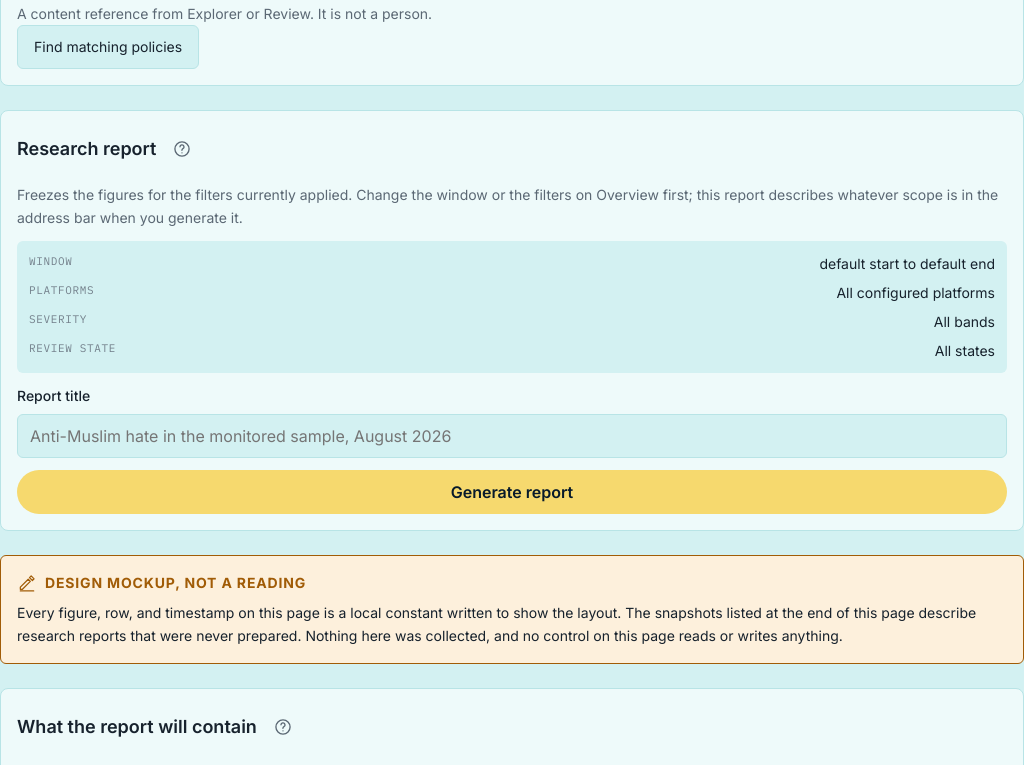
Scenario: ReportsPage › offers generation once a title is typed, and exports only after freezing
(page scrolled)
Expected: the button "Download aggregate CSV" is not shown
In the field labelled "Report title": point(512, 436) [17, 414, 1007, 458], type "August monitored sample"
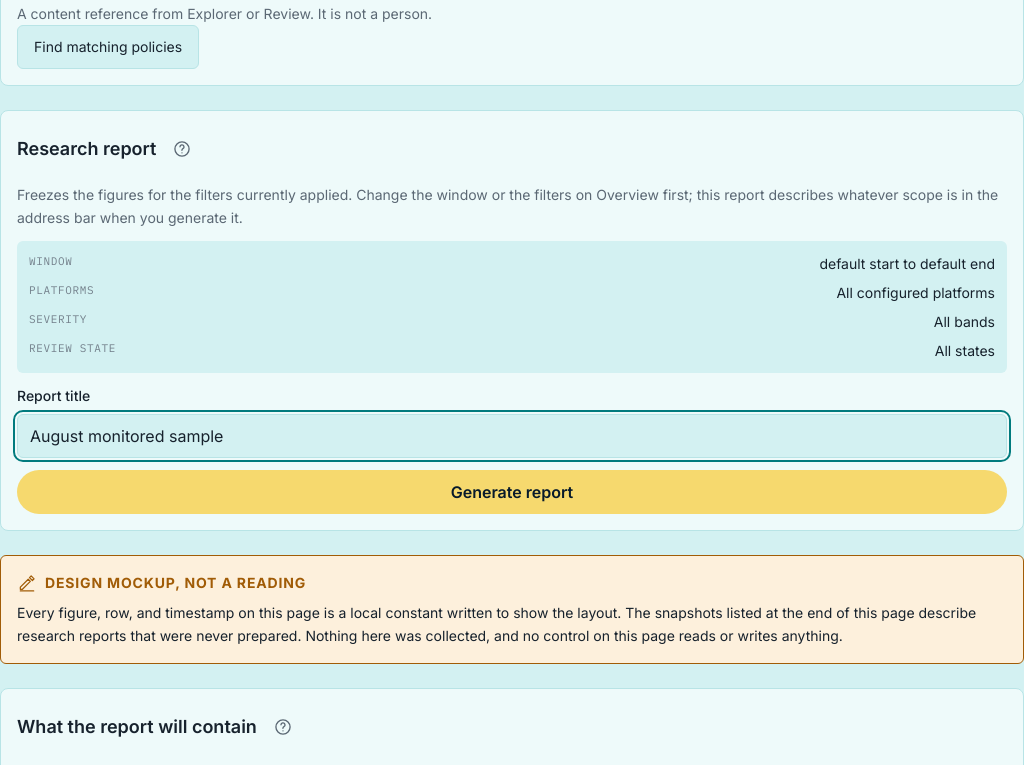
Click the button "Generate report": point(512, 492) [17, 470, 1007, 514]
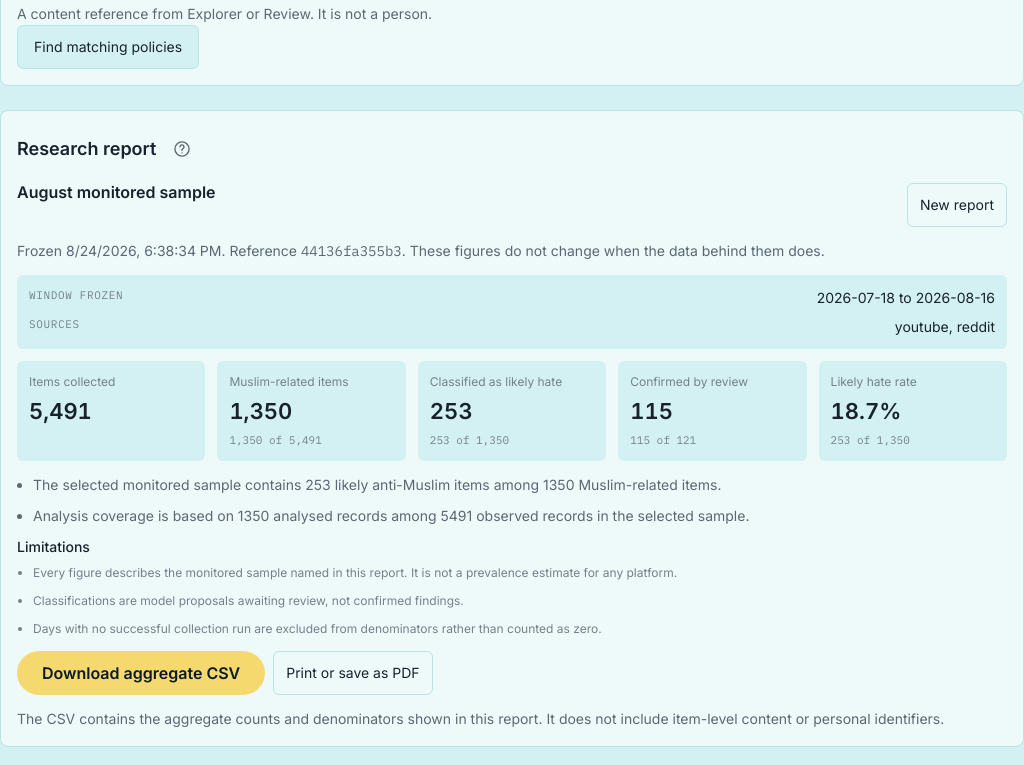
Expected: the button "Download aggregate CSV" is enabled, [17, 651, 265, 695]
Now the heading "August monitored sample" is shown, box [17, 183, 216, 202]
Now the button "Print or save as PDF" is enabled, box [273, 651, 433, 695]
